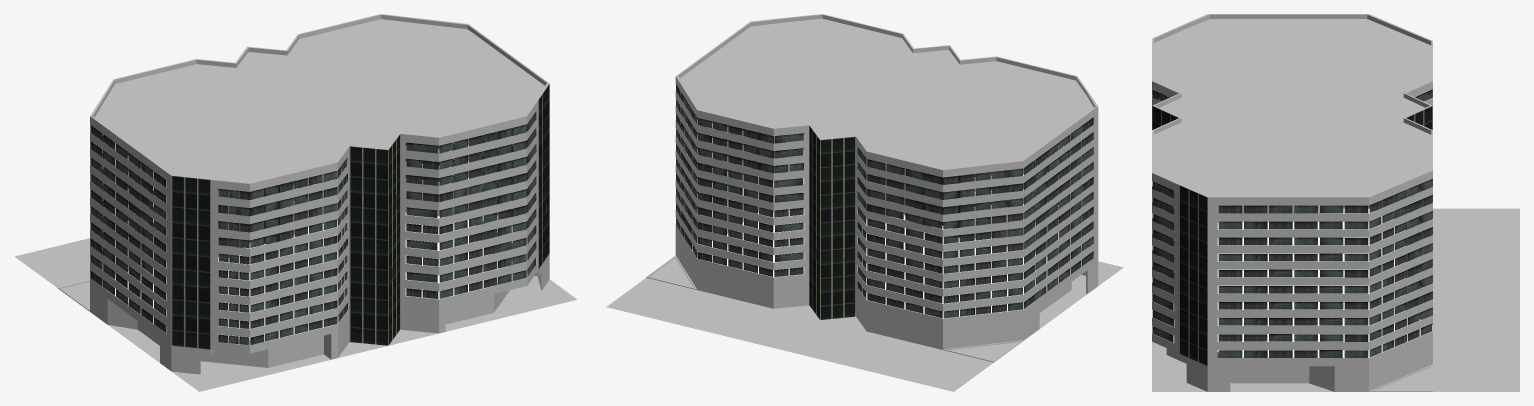
3 views of the same model, side by side, from view 1: azimuth 30°, elevation 25°; view 2: azimuth 150°, elevation 25°; view 3: azimuth 270°, elevation 25° (orthographic). The views are drawn at different scales.
Parts seen in each view (by area): view 1: DC-04; view 2: DC-04; view 3: DC-04.
Part boxes in pixels (box(x1,y1,x2,y2)): DC-04: box(14, 14, 576, 391); DC-04: box(606, 14, 1123, 391); DC-04: box(1152, 14, 1519, 391).
Size of what is drawn, in the model's own units: 72 by 35.61 by 61.
